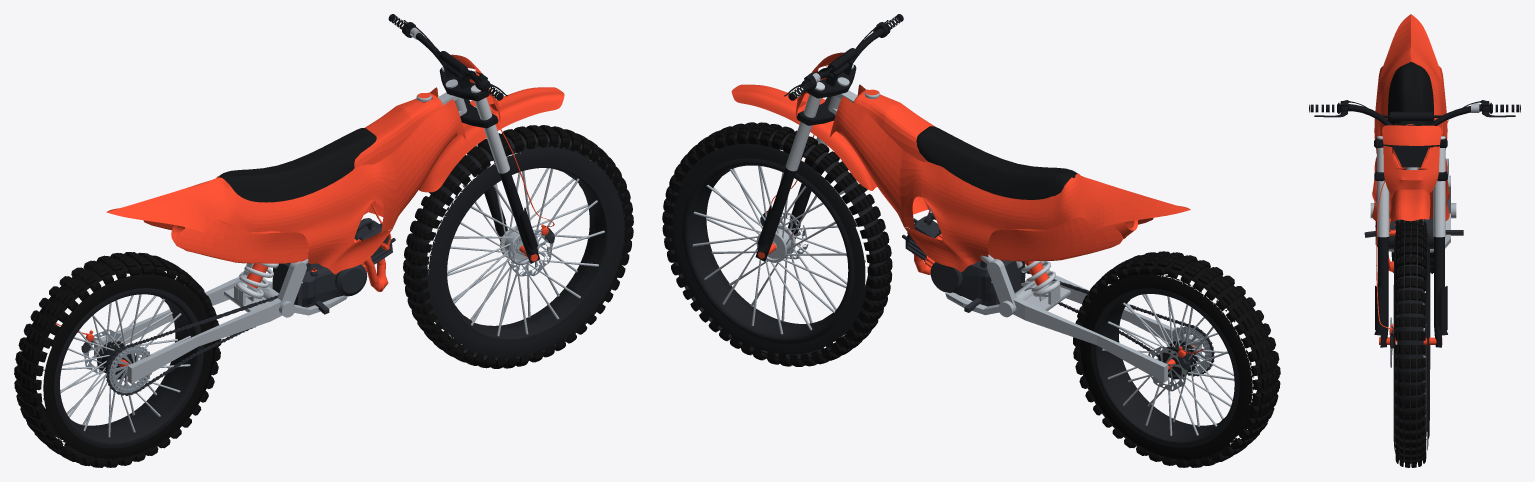
3 views of the same model, side by side, from view 1: azimuth 30°, elevation 25°; view 2: azimuth 150°, elevation 25°; view 3: azimuth 270°, elevation 25° (orthographic). The views are drawn at different scales.
Bounding box in the file's own units: 1.62 × 0.8457 × 0.5012.
